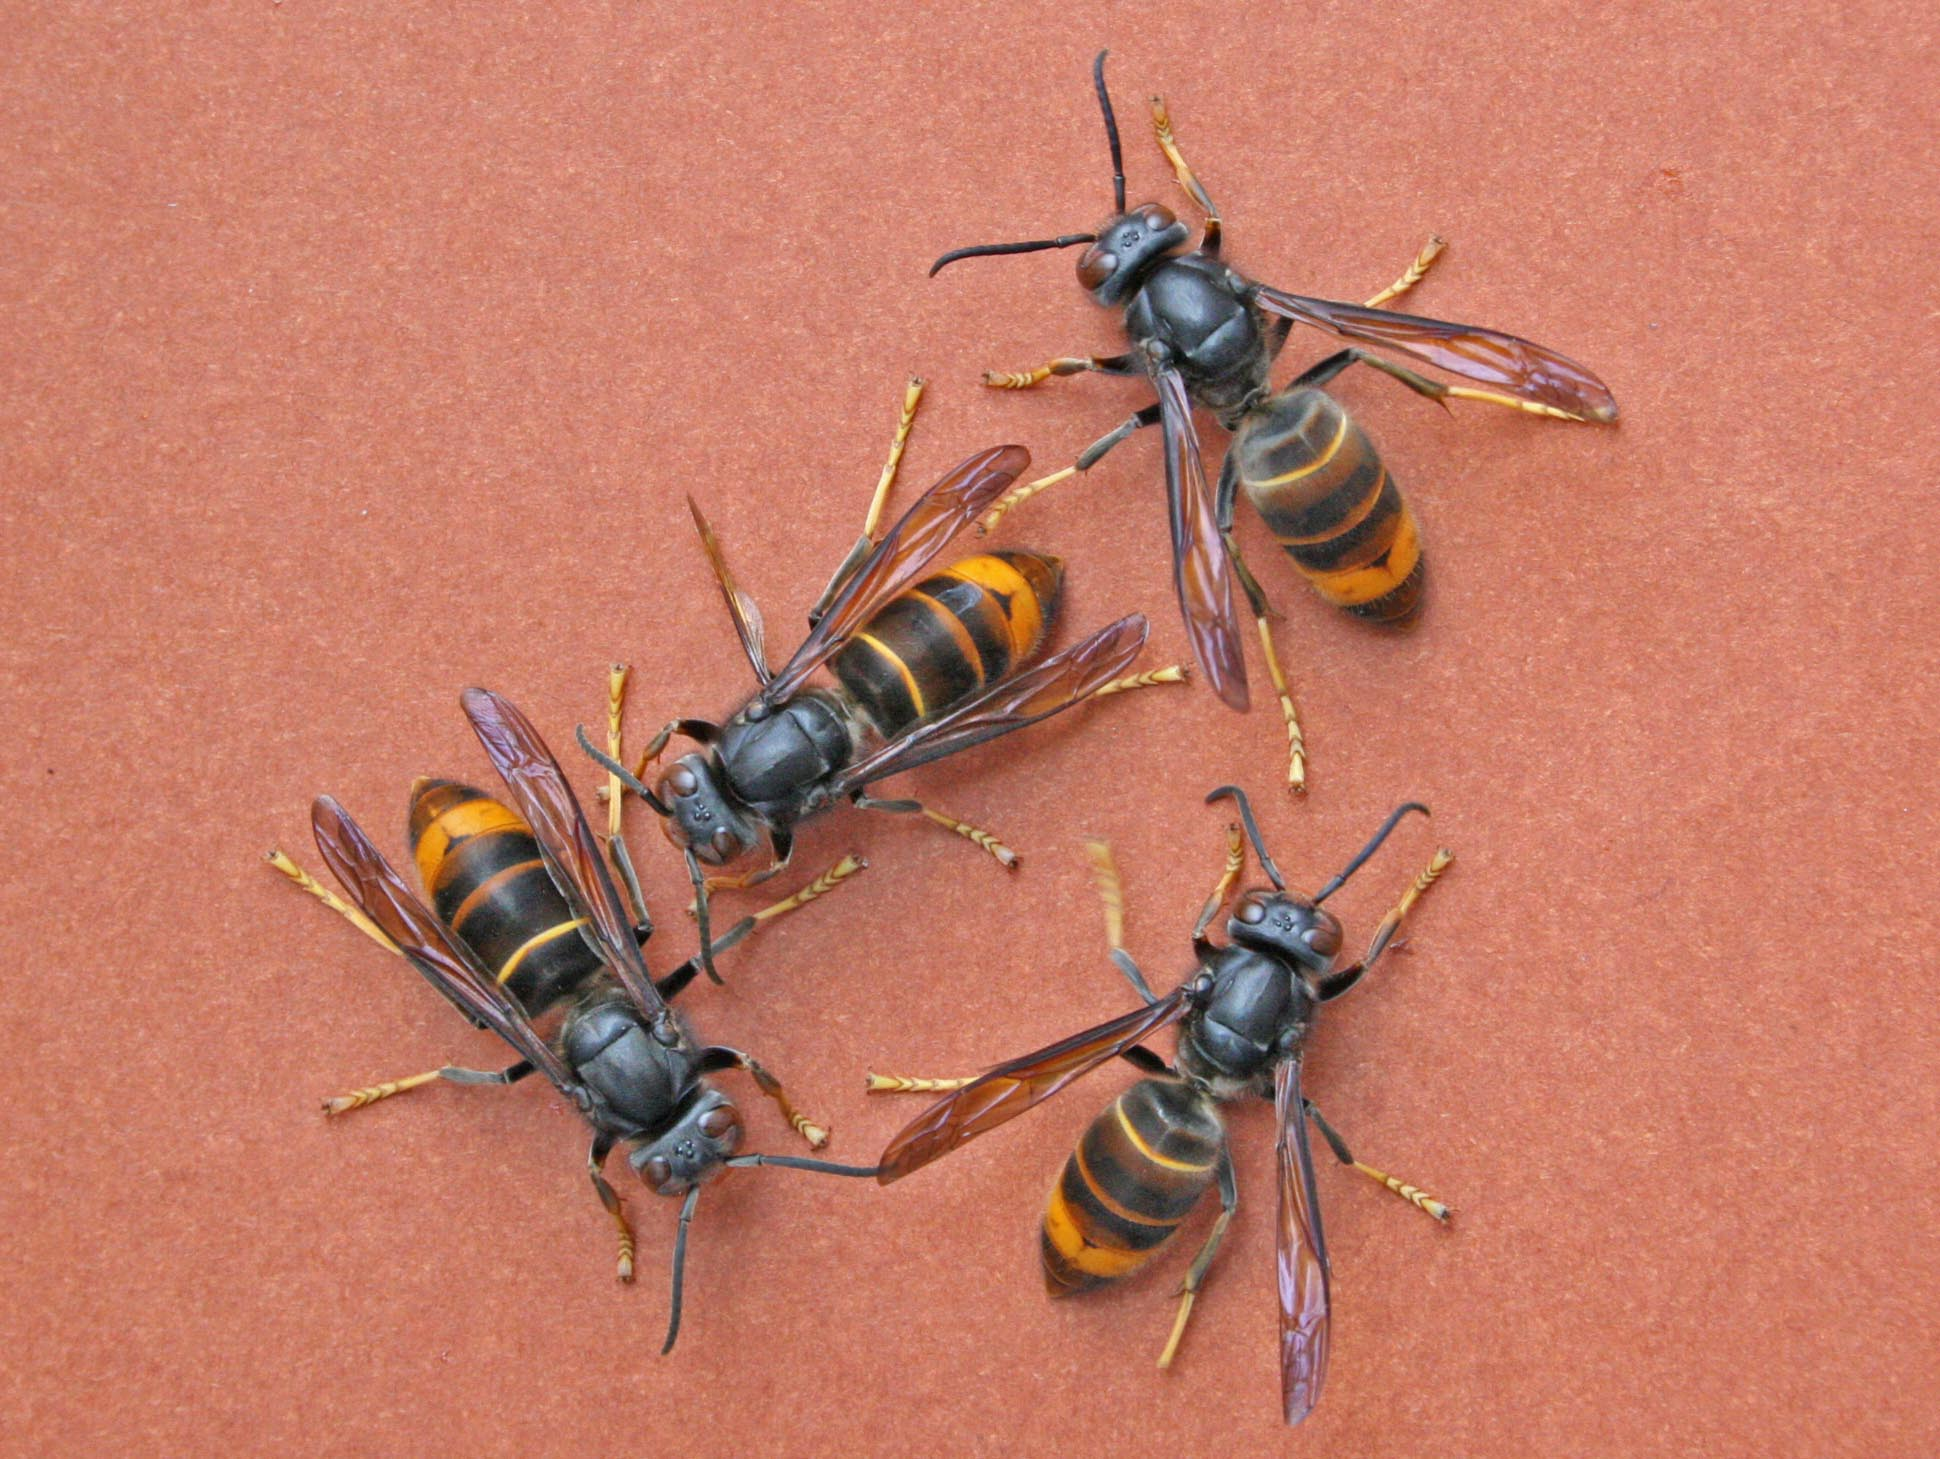hornet: (991, 116, 1499, 729), (296, 676, 823, 1238), (944, 838, 1407, 1355), (605, 438, 1129, 889)
